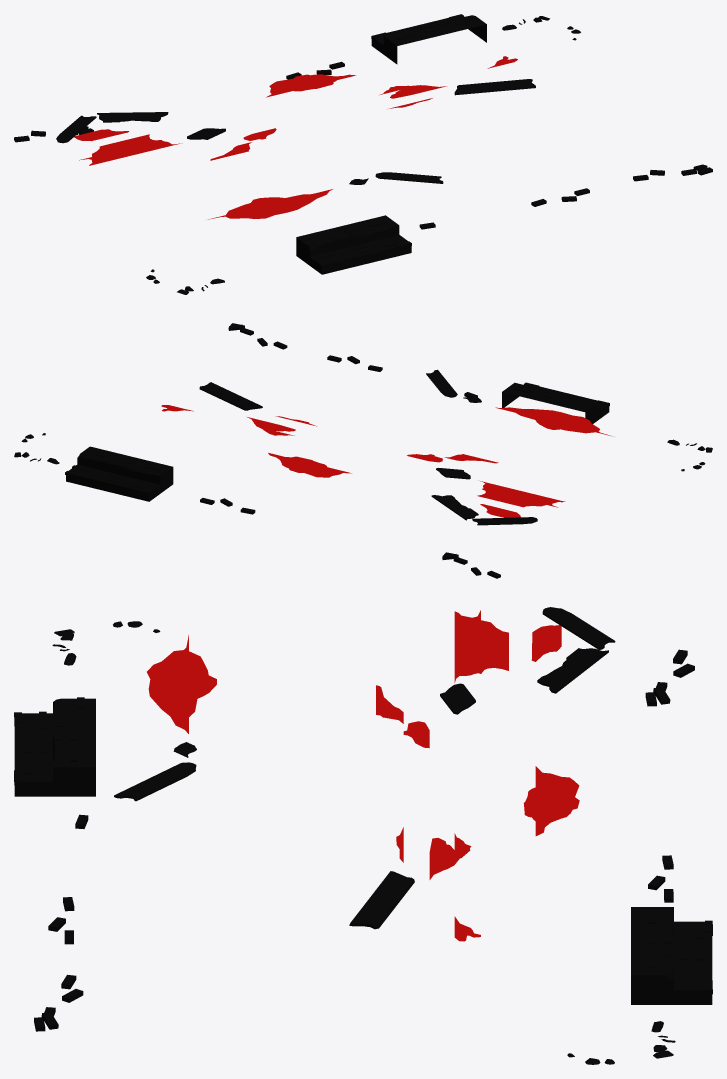
Rendered from SM_MI_Miscellaneous_Office.fbx.
3 renders of one model, top to bottom at view 1: azimuth 30°, elevation 25°; view 2: azimuth 150°, elevation 25°; view 3: azimuth 270°, elevation 25°, orthographic. The views are drawn at different scales.
Visible parts, largest first — view 1: SM_ST_Office01.mo; view 2: SM_ST_Office01.mo; view 3: SM_ST_Office01.mo.
Part boxes in pixels (x1,y1,x2,y2): SM_ST_Office01.mo: [14, 14, 712, 294]; SM_ST_Office01.mo: [14, 323, 712, 578]; SM_ST_Office01.mo: [14, 607, 712, 1064].
Size of the model in its own units: 1293 by 861 by 68.86.
